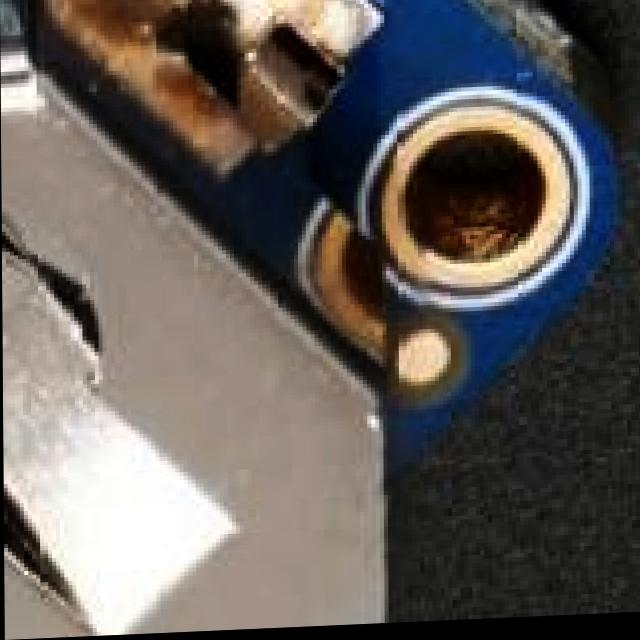battery: (0, 0, 424, 640)
